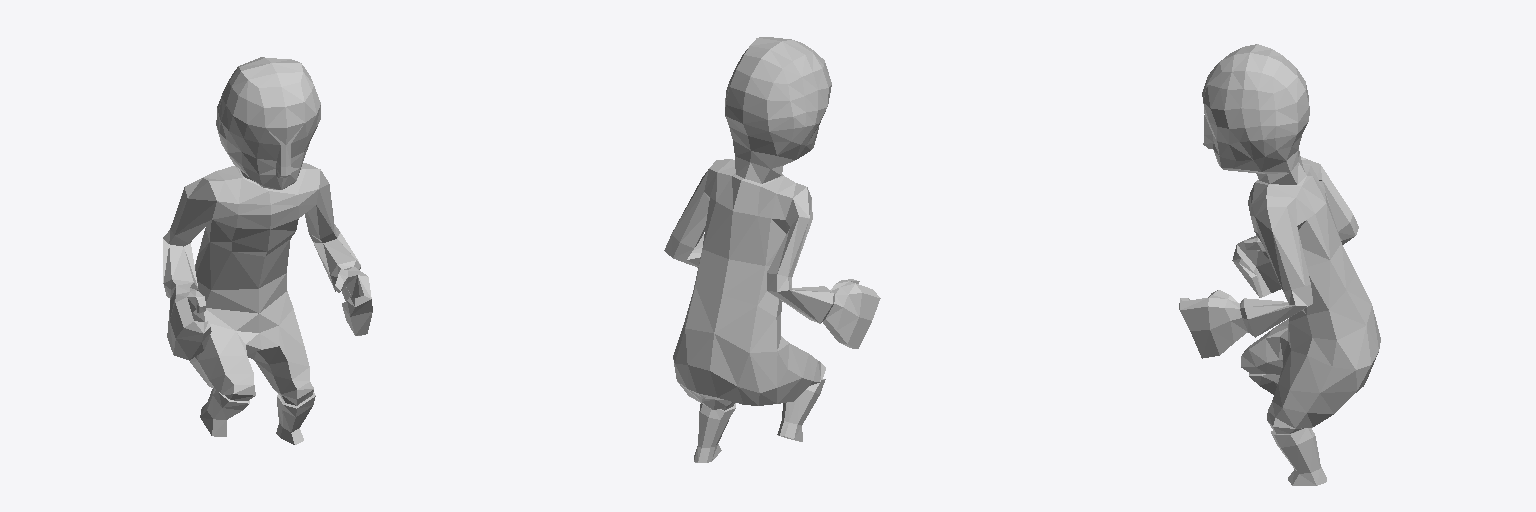
The model's file is KnightCharacter17.obj.
The picture shows the model from 3 angles: view 1: azimuth 30°, elevation 25°; view 2: azimuth 150°, elevation 25°; view 3: azimuth 270°, elevation 25°; orthographic projection.
Visible parts, largest first — view 1: Knight; view 2: Knight; view 3: Knight.
Part boxes in pixels (x1,y1,x2,y2): Knight: (163, 57, 372, 444); Knight: (664, 37, 880, 462); Knight: (1179, 44, 1380, 485).
Size of the model in its own units: 2.47 by 5.21 by 2.34.